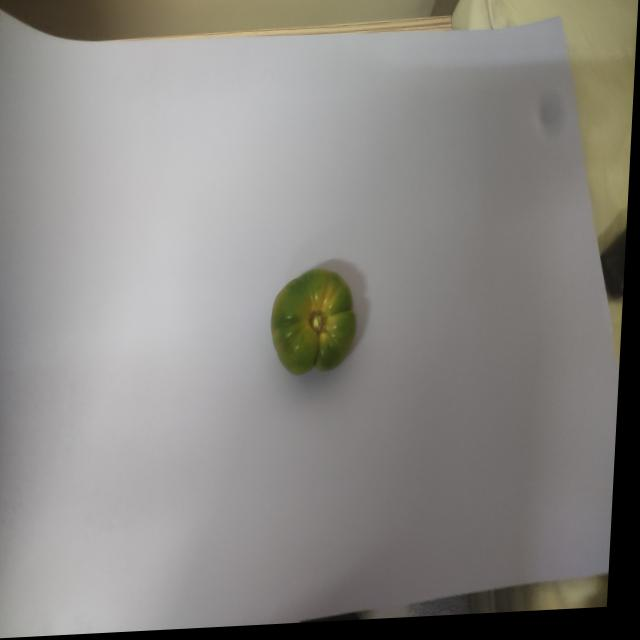yesil: (273, 266, 379, 386)
